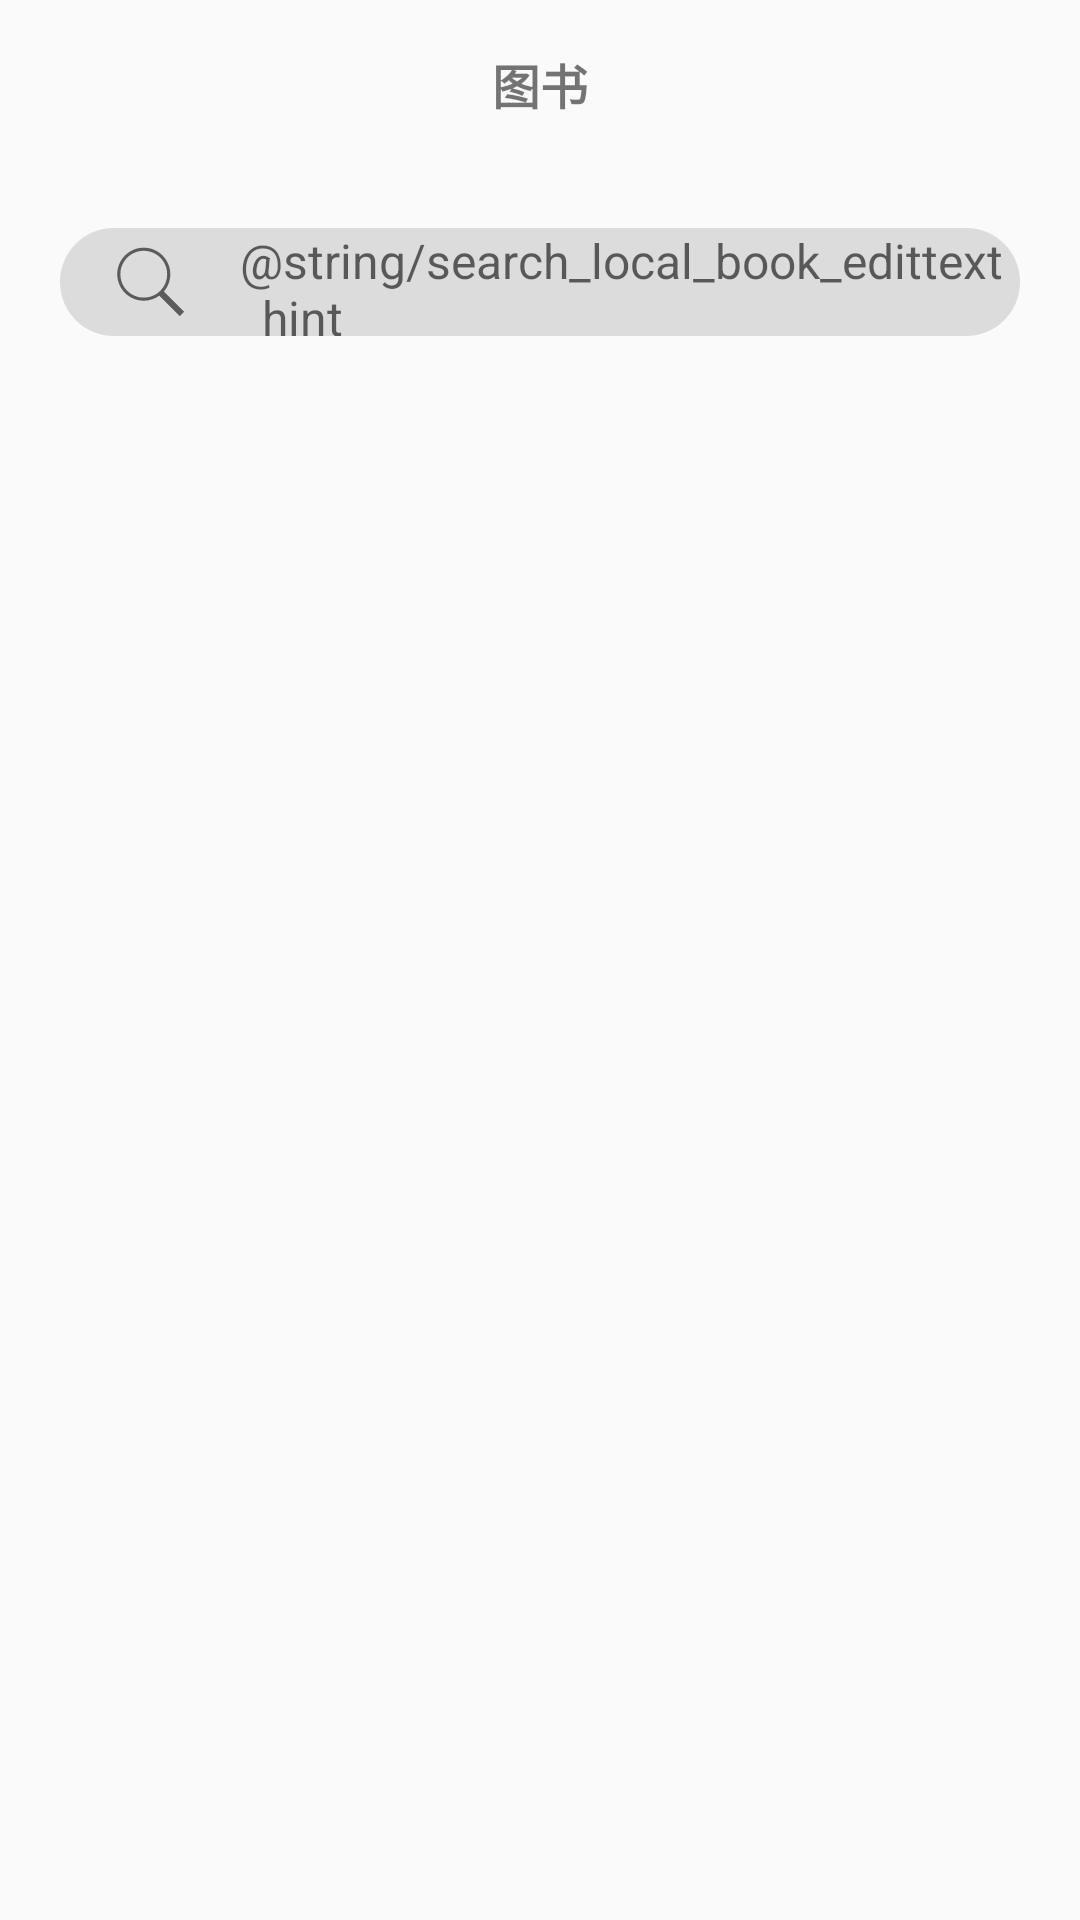

Locate icon controls on the screen. Image size 1080px x 1920px, boxes as (x1, y1, x2, y2).
bookshelf search: (60, 228, 240, 336)
